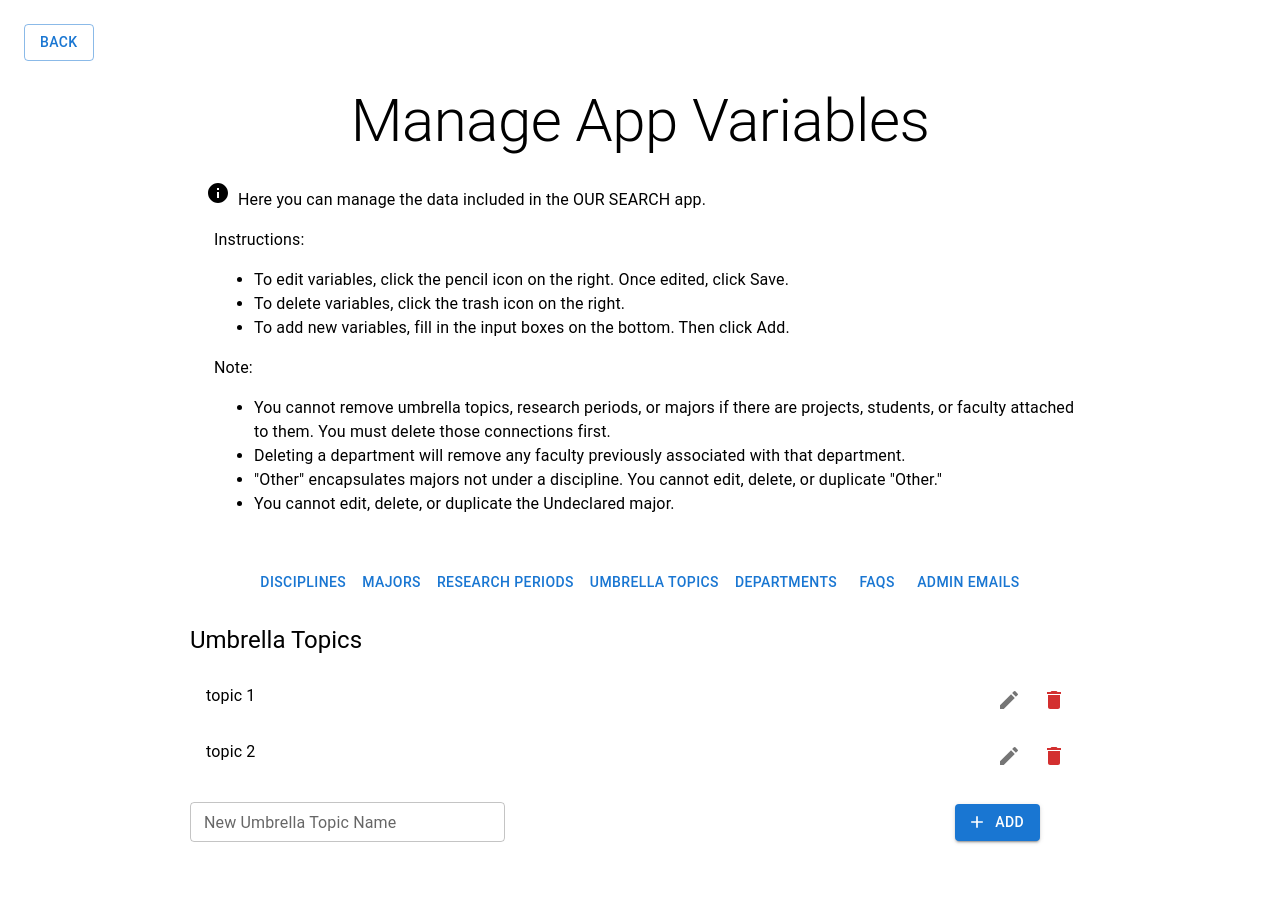
Test: ManageVariables › handling umbrella topics › deleting › asks for confirmation before deleting
What coordinates should you click on to do the following:
click the 1st button with test id "delete-umbrella-btn"
I would click on:
 (1054, 700)
Its box is [1034,680,1074,720].
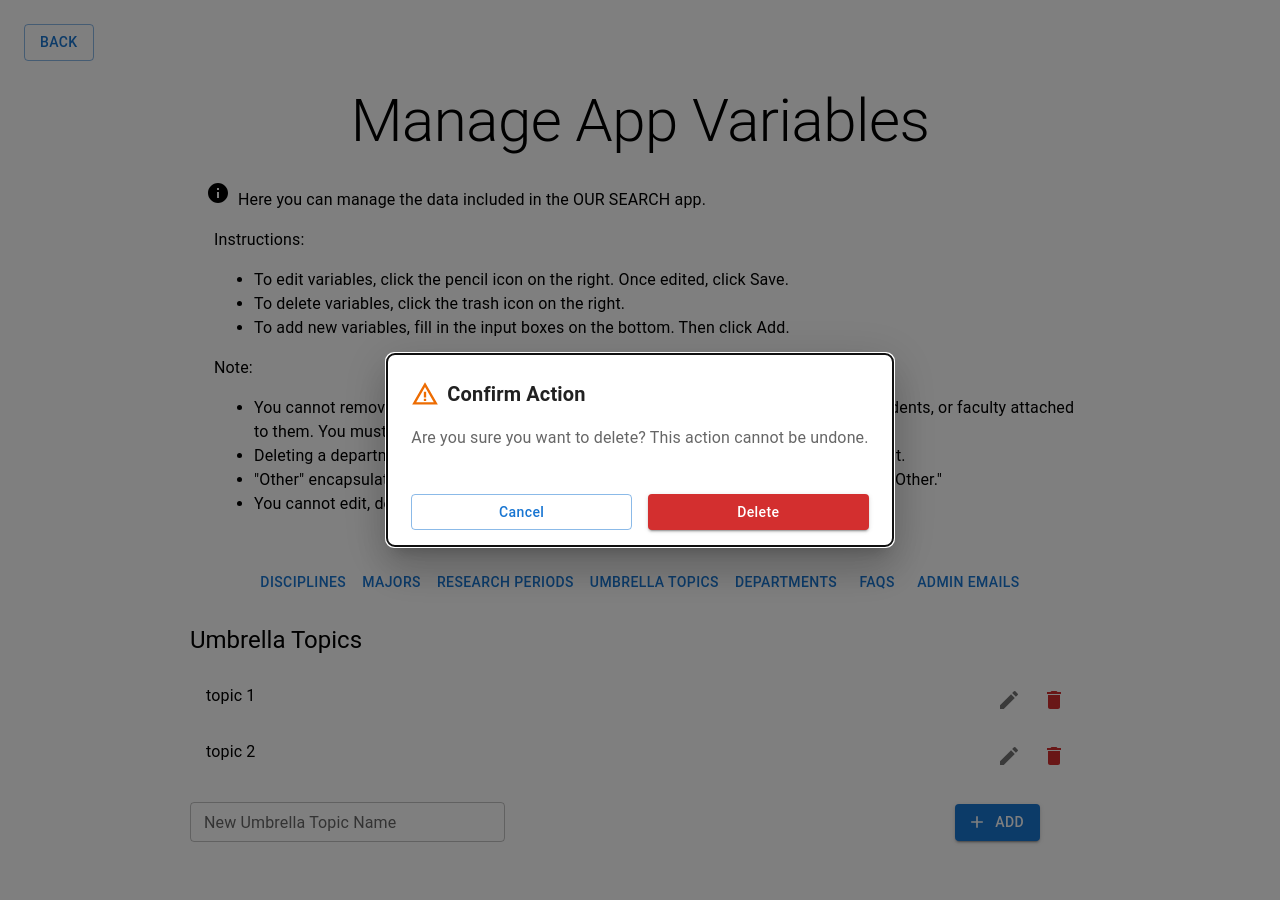
Expected: the text "Are you sure you want to delete" is shown, [411,426,869,450]
Expected: the button with test id "confirm" is shown, [648,494,869,530]
